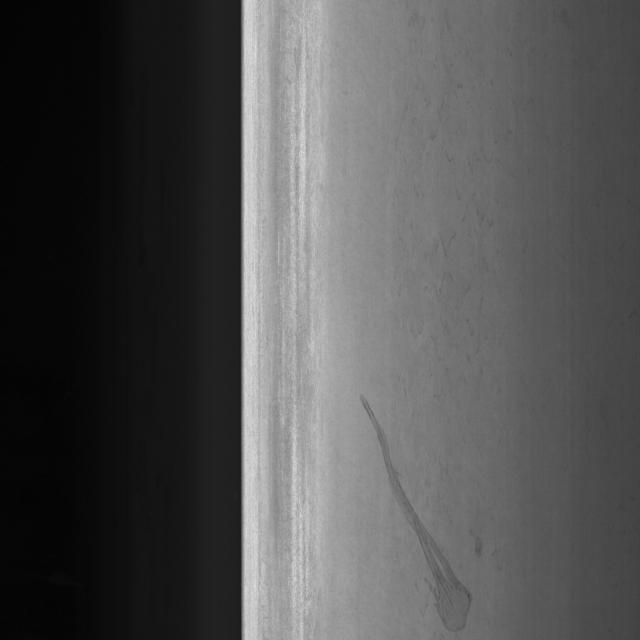inclusion: (386, 42, 504, 409)
water_spot: (351, 378, 497, 640)
